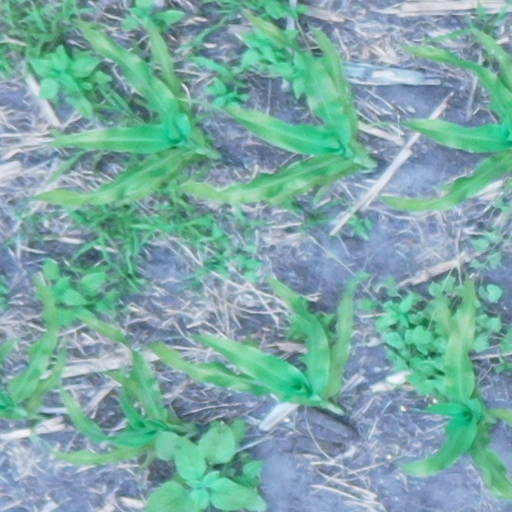planta: (170, 10, 372, 204), (31, 12, 222, 210), (146, 272, 363, 416), (39, 313, 171, 473)
